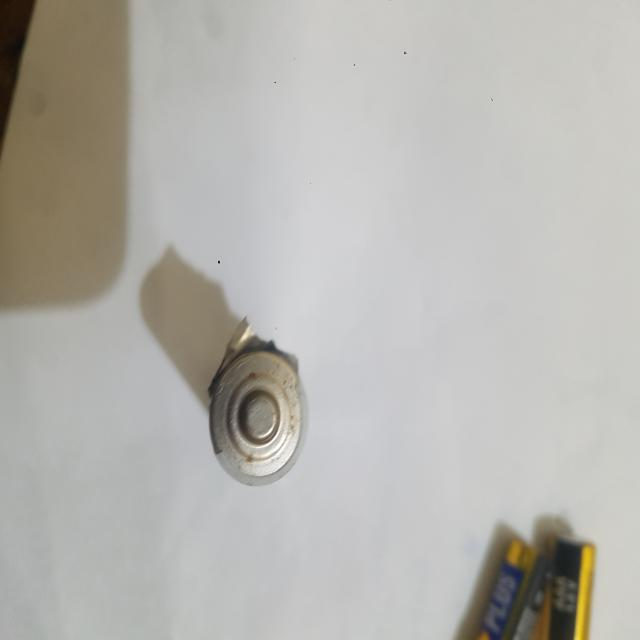electronic: (186, 311, 324, 509)
